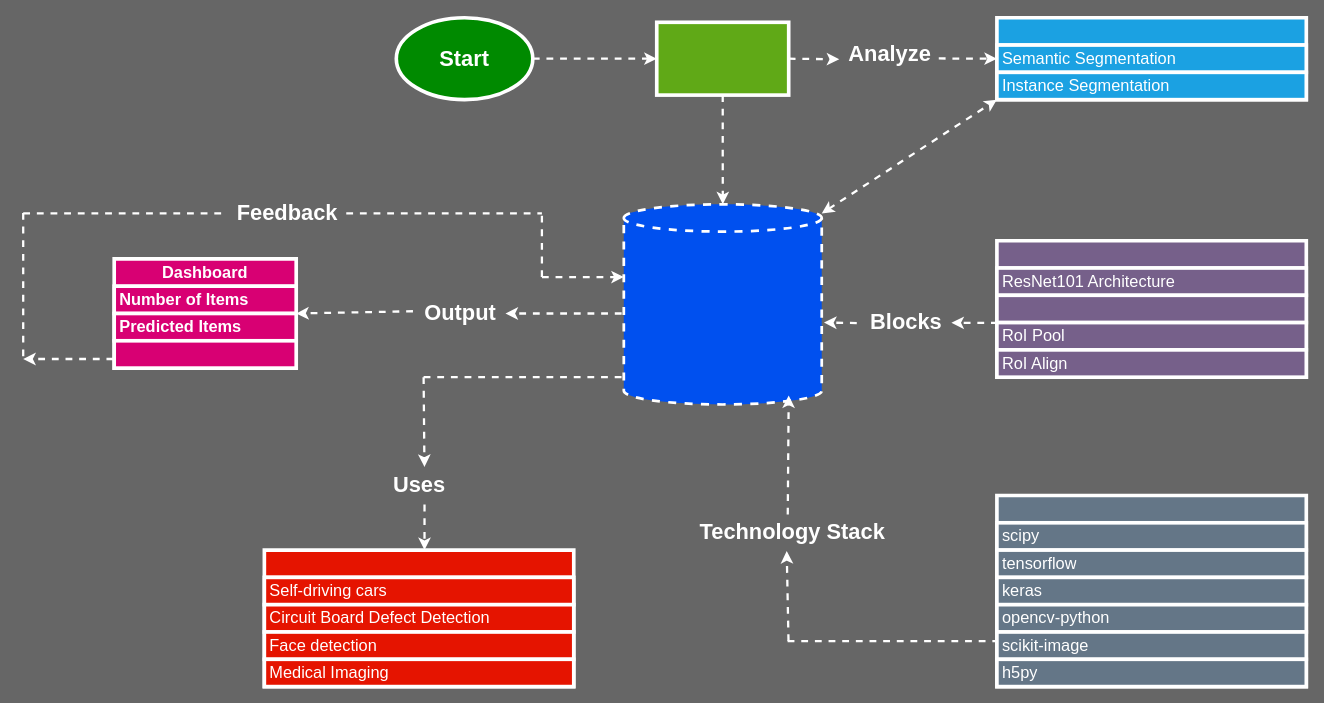
Image size: 1324x703. Some labels were removed from this diagram. Here are the shapes that lost their labels. From the top down, the box of each, then its label:
(654, 20, 790, 96): Image Data
(995, 15, 1308, 101): Image Segmentation Types
(622, 202, 823, 405): Mask R-CNN Architecture
(995, 238, 1308, 379): Features
(995, 293, 1308, 324): Region Proposed Network (RPN)
(112, 339, 298, 369): Train the Model
(995, 493, 1308, 688): Python Libraries
(262, 548, 575, 688): Applications
